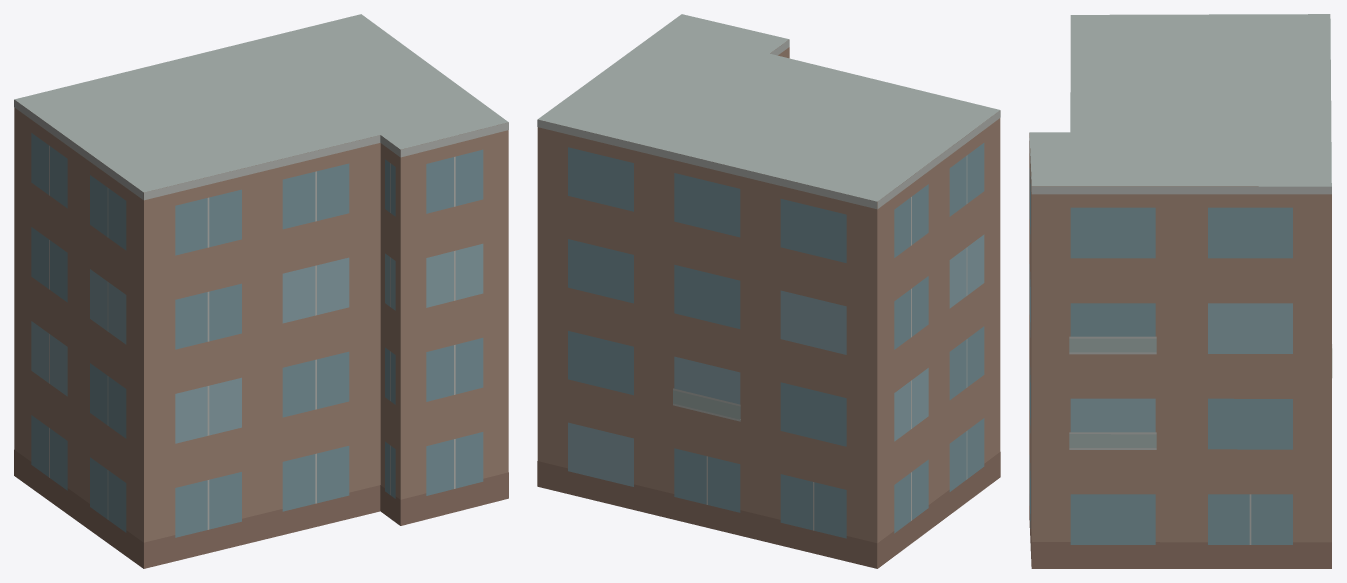
File: survey-upis-32899115.glb
3 renders of one model, left to right at view 1: azimuth 30°, elevation 25°; view 2: azimuth 150°, elevation 25°; view 3: azimuth 270°, elevation 25°, orthographic. The views are drawn at different scales.
Parts seen in each view (by area): view 1: survey-upis-32899115.tmp; view 2: survey-upis-32899115.tmp; view 3: survey-upis-32899115.tmp.
Part boxes in pixels (<box>): survey-upis-32899115.tmp: <box>14,14,508,568</box>; survey-upis-32899115.tmp: <box>537,14,1000,568</box>; survey-upis-32899115.tmp: <box>1029,14,1332,568</box>.
Size of the model in its own units: 11.36 by 11.7 by 8.42.
